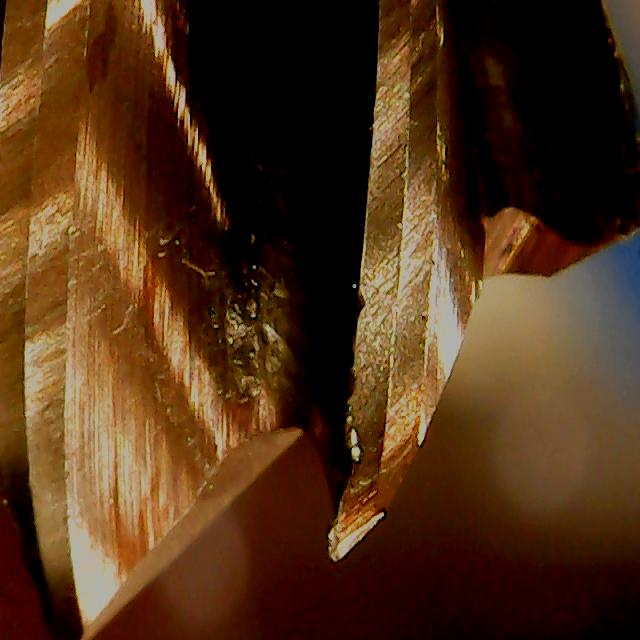Tool-wear-class-1: (300, 289, 461, 570)
